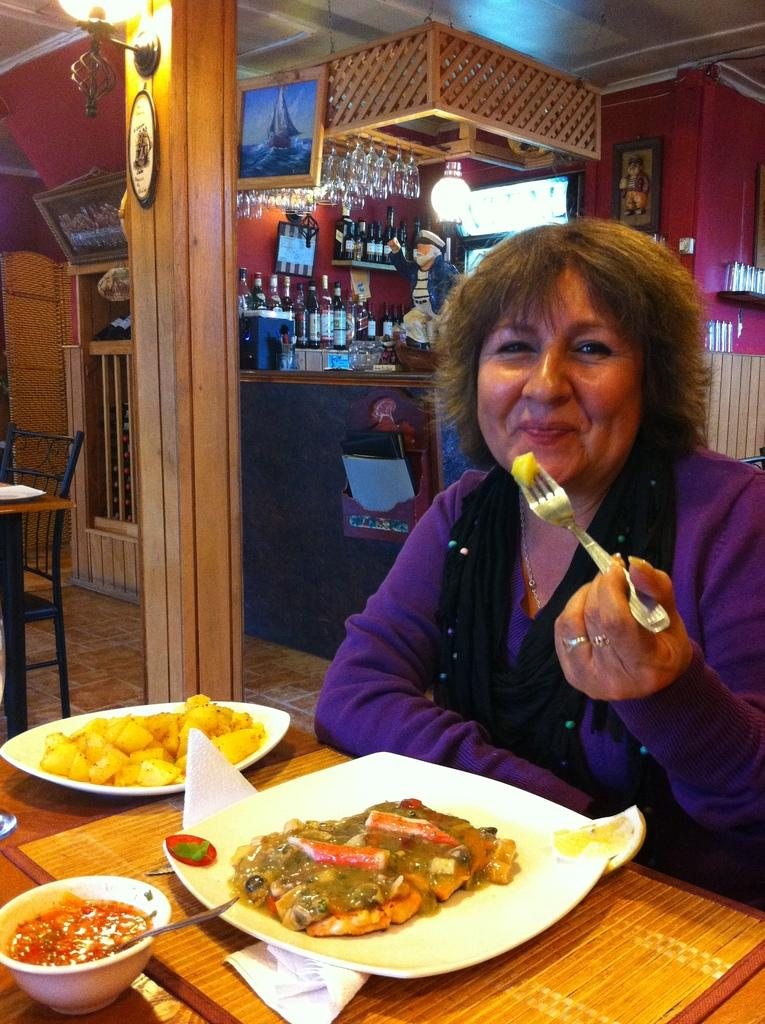Chair: (0, 421, 84, 732)
